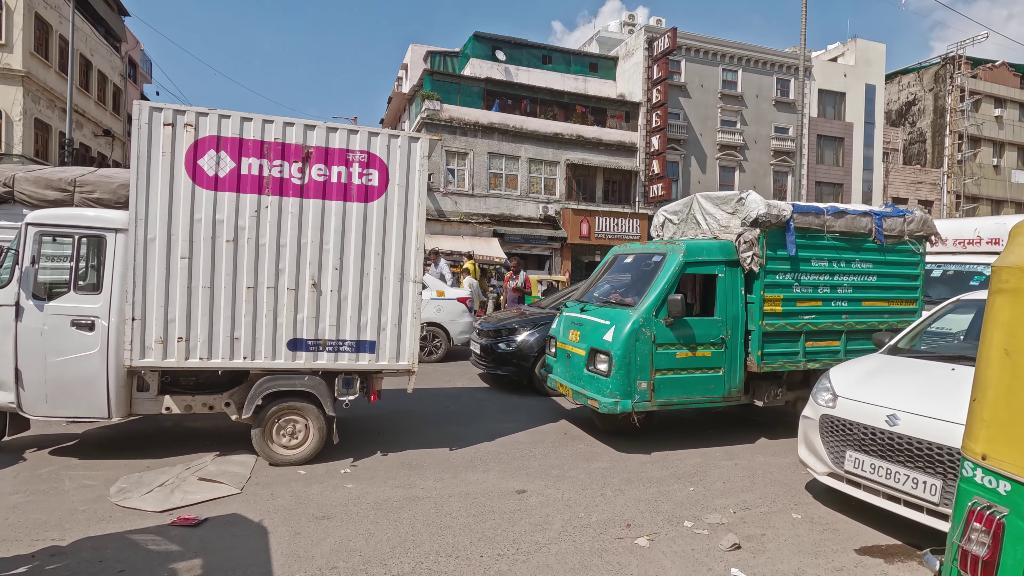garbage: (109, 453, 257, 506), (167, 513, 205, 527)
